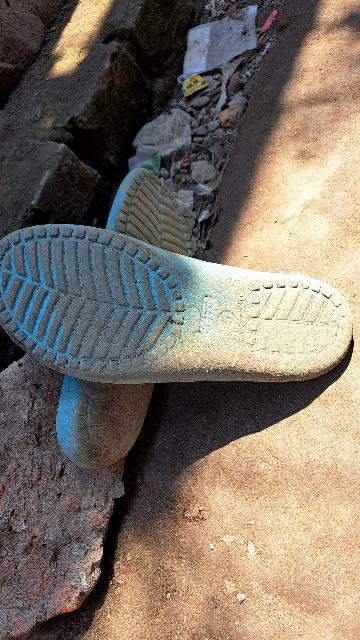sandal: (0, 214, 360, 398), (34, 170, 217, 505)
